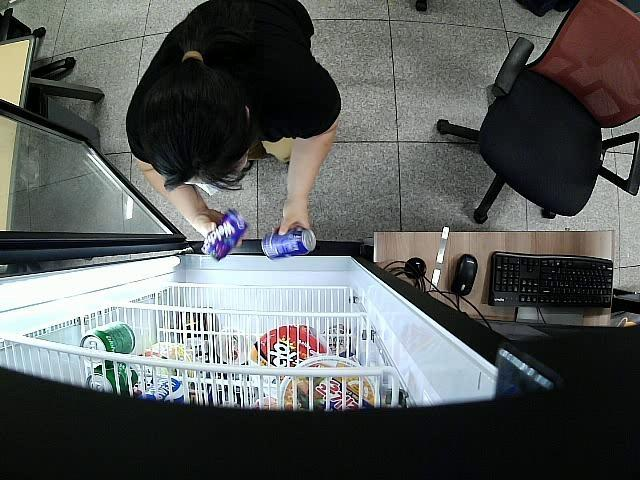14_welchsGrape: (200, 210, 247, 261), (260, 226, 315, 262)
